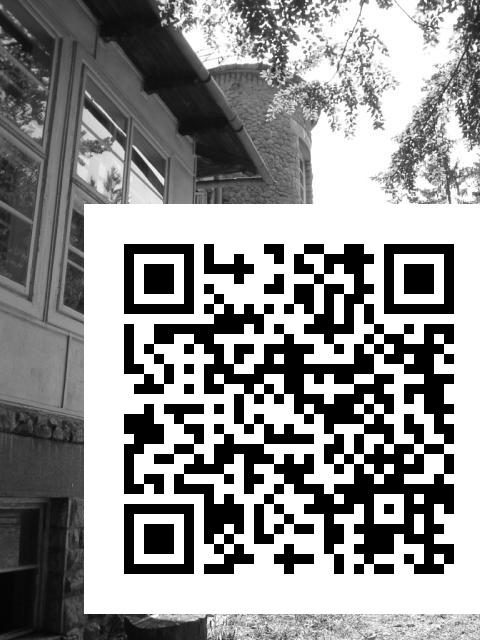qr_code: (105, 224, 467, 587)
